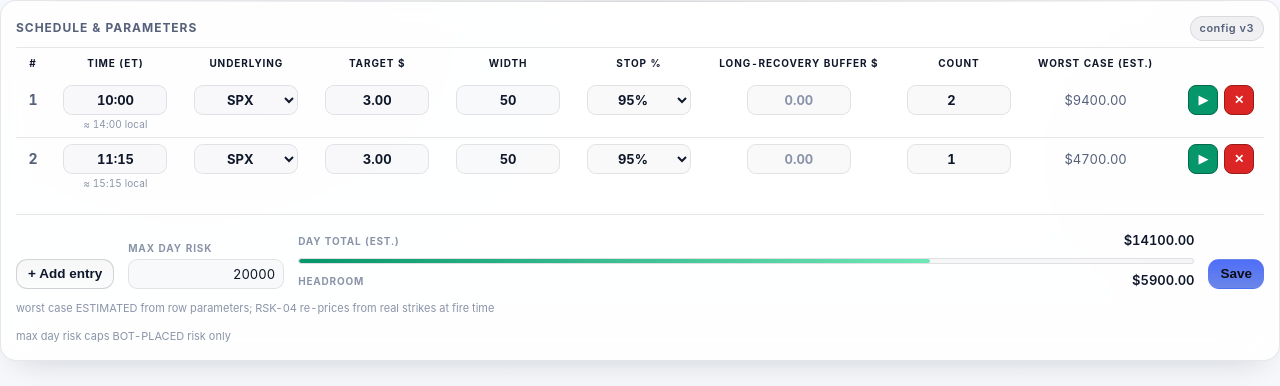
Test case: STP-02b / UI-18 — long-recovery buffer ($ stop_rebate_markup) › shows the worst-case dollar figure for markup 0.30, 2 contracts: +$120
Expected: the table is shown, [16,56,1264,196]
Type "0.30" into the field named "long recovery buffer 1".
click(799, 100); type("0.30")  # box [747,85,851,115]
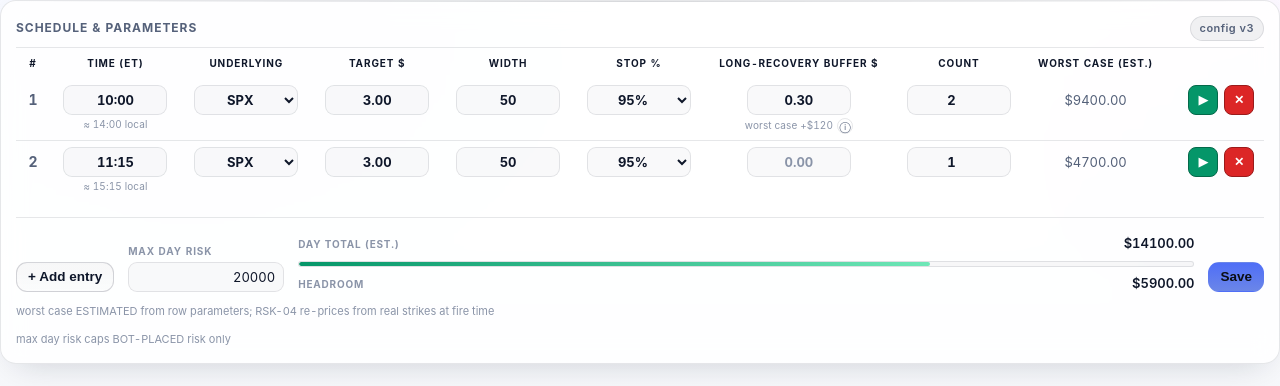
Now the element with test id "markup-hint-0" shows "+$120", box [714,118,884,134]
